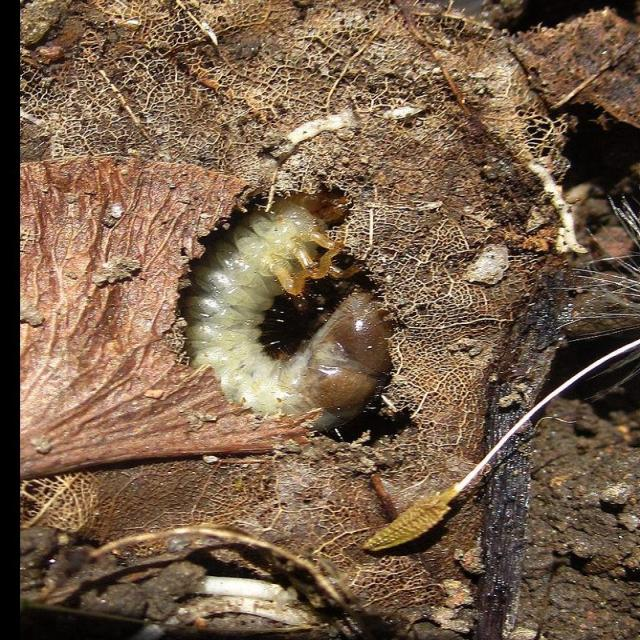grub: (187, 187, 400, 433)
